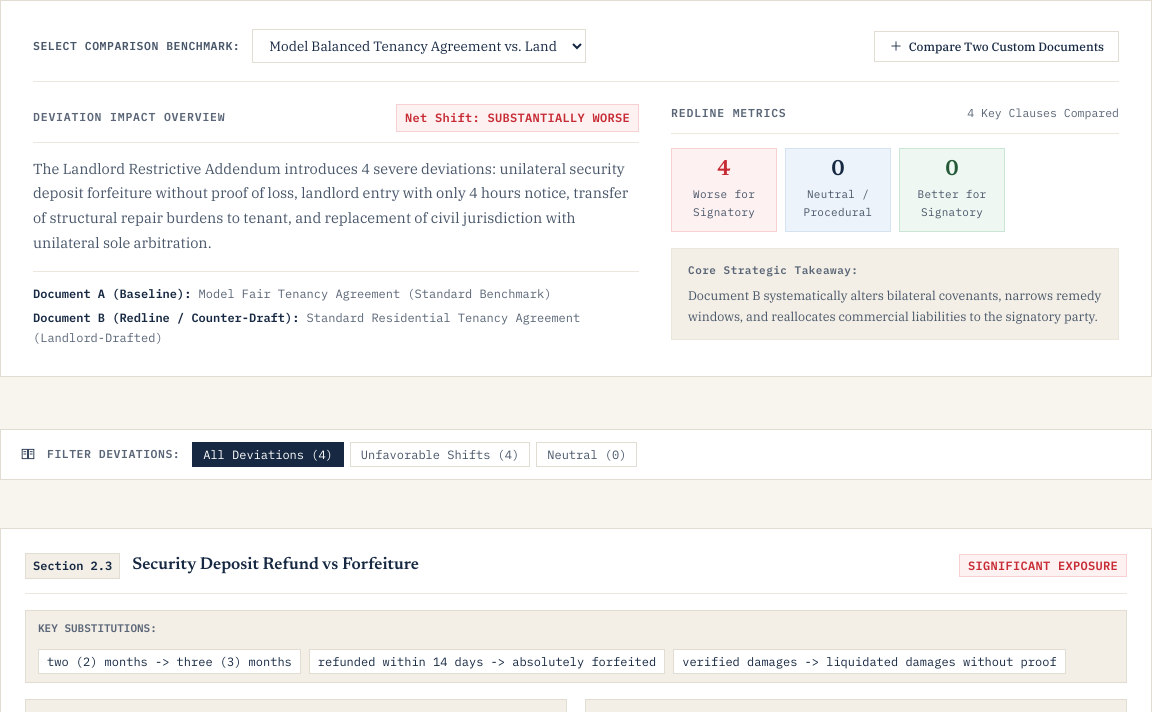
Test: ContractComparator › rejects an unusable draft with an accessible error
Click the button "Compare Two Custom Documents". click: (996, 46)
box: [874,30,1119,62]
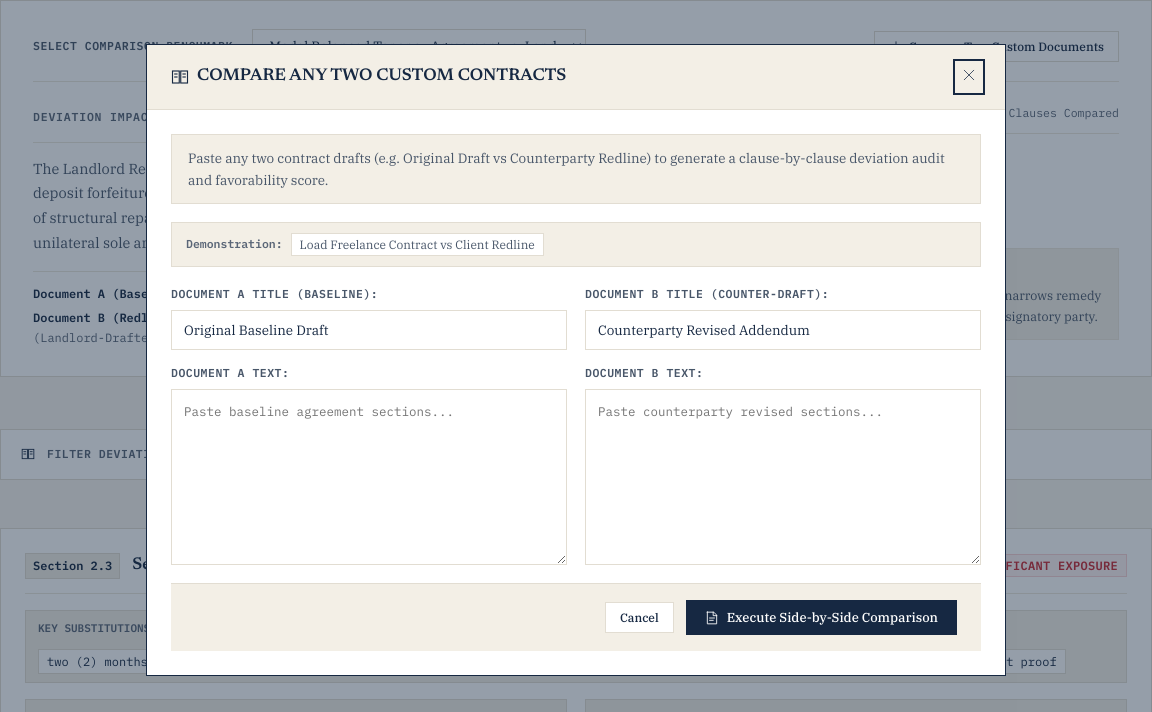
Check: the dialog is shown
Type "hi" into the text box with id "doc-a-text". click: (369, 477)
box: [171,389,567,565]
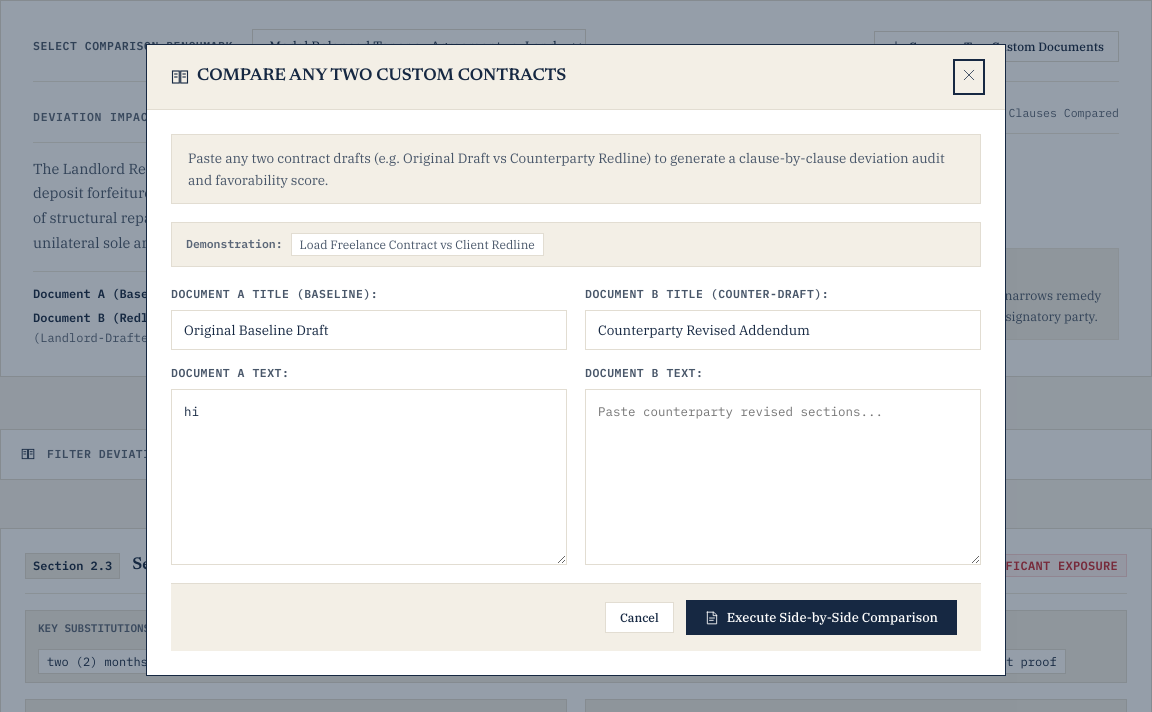
Type "hey" into the text box with id "doc-b-text". click: (783, 477)
box: [585,389,981,565]
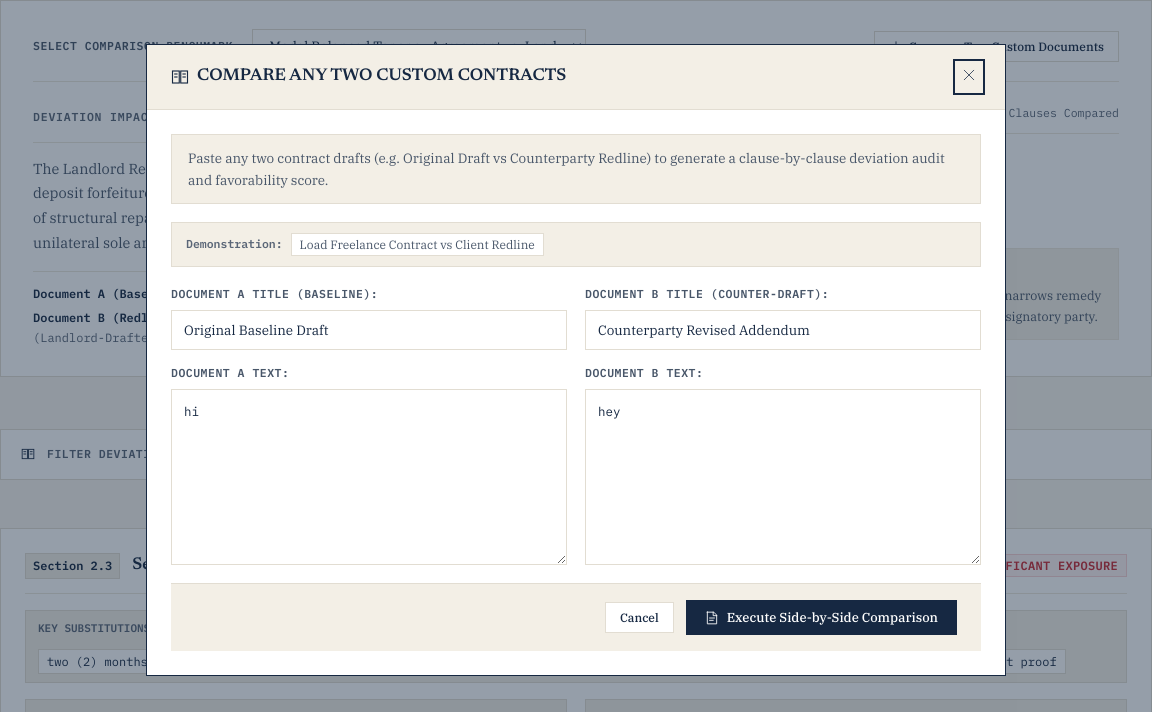
Click the button "Execute Side-by-Side Comparison". click: (821, 618)
box: [686,600,957,635]
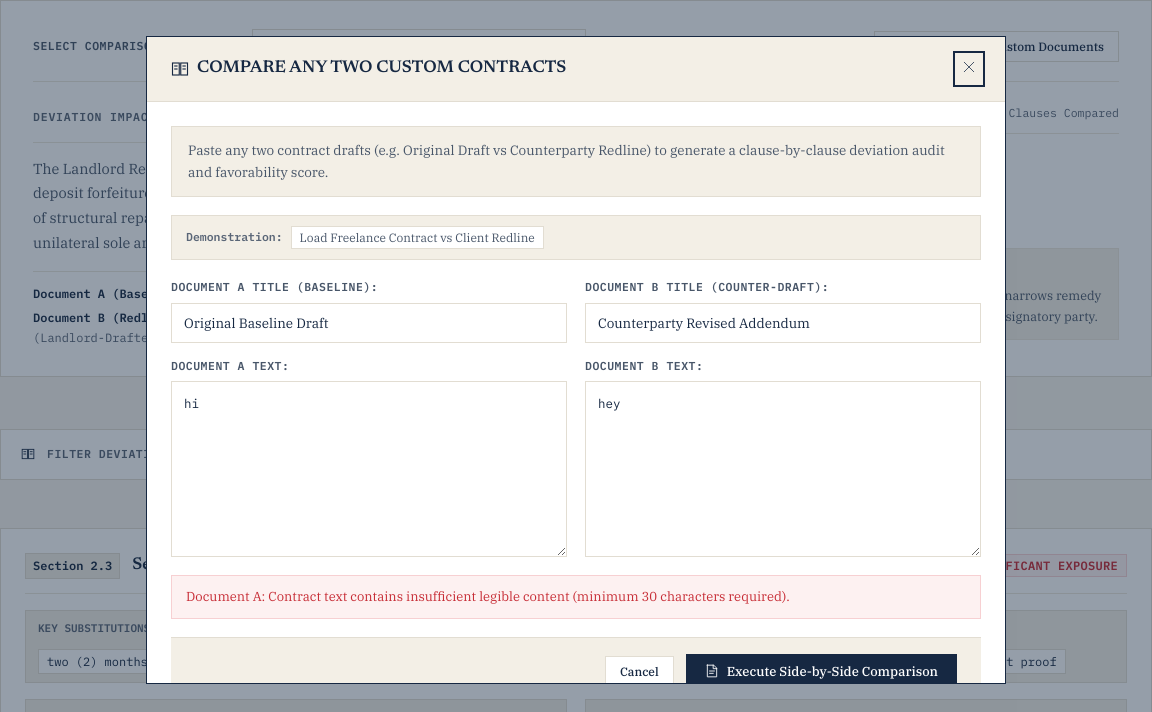
Check: the message is shown, box [171,576,981,619]
